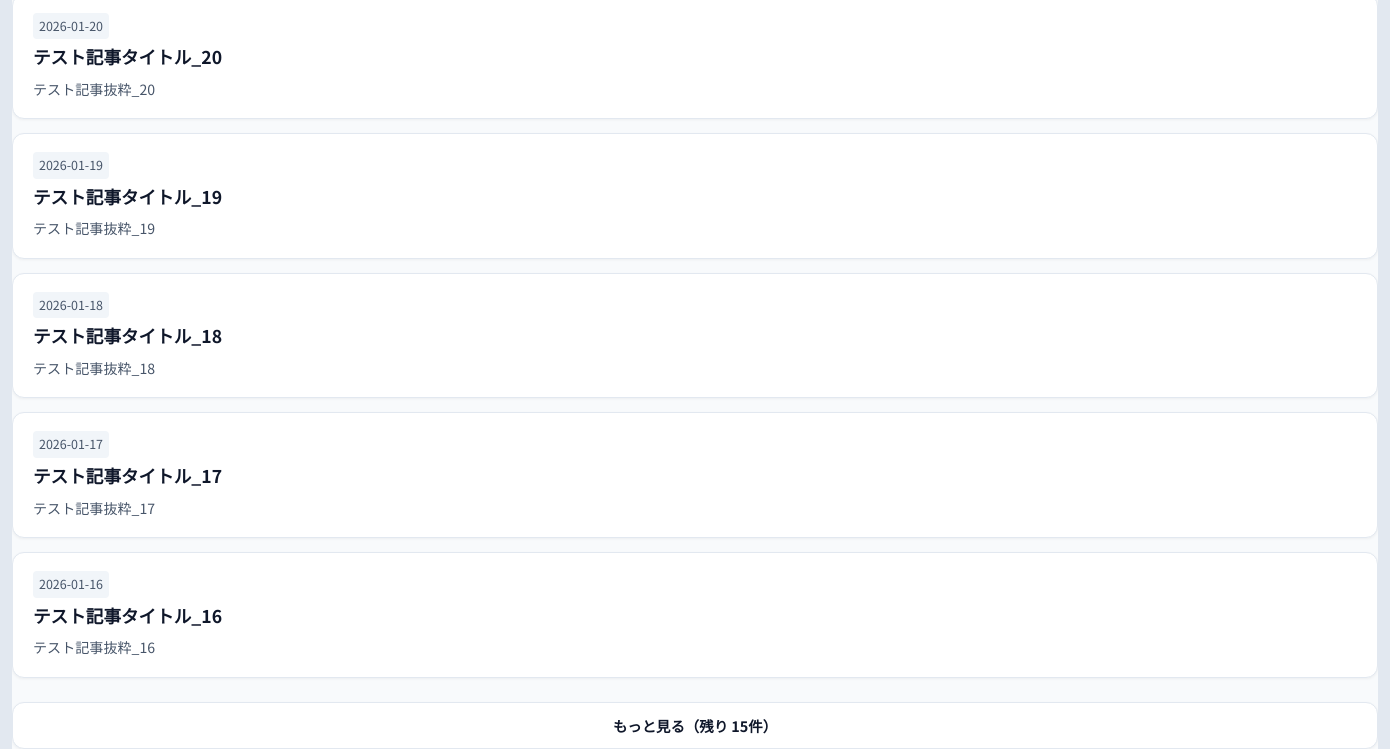
Test: 02_ホーム右カラム・最新記事・記事一覧・ページネーションテスト › 02_記事一覧_03 「もっと見る（残り N件）」ボタン押下で10件ずつ追加表示され、全件表示後にボタンが消えること
(page scrolled)
Click the button "もっと見る（残り 15件）": (695, 725) [12,702,1378,748]
(page scrolled)
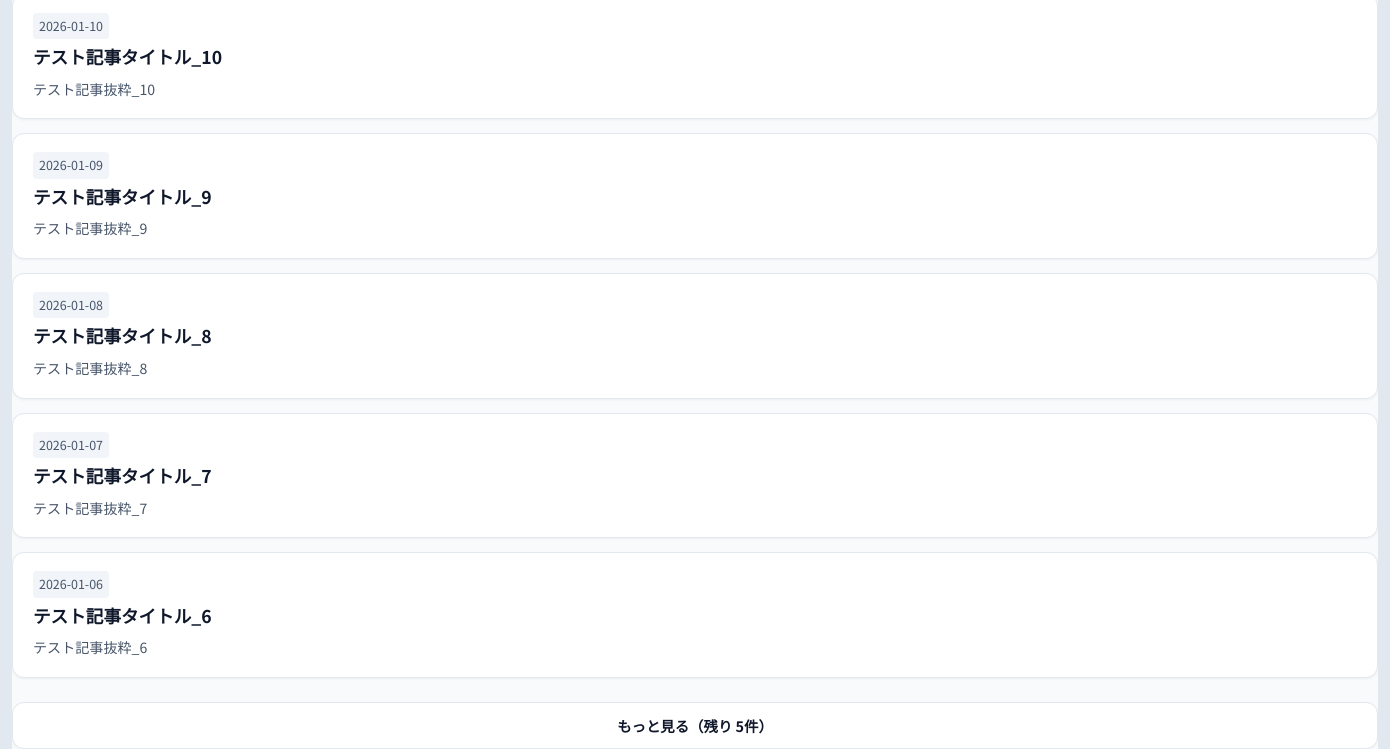
Expected: the button "もっと見る（残り 5件）" is shown
Click the button "もっと見る（残り 5件）": (695, 725) [12,702,1378,748]
(page scrolled)
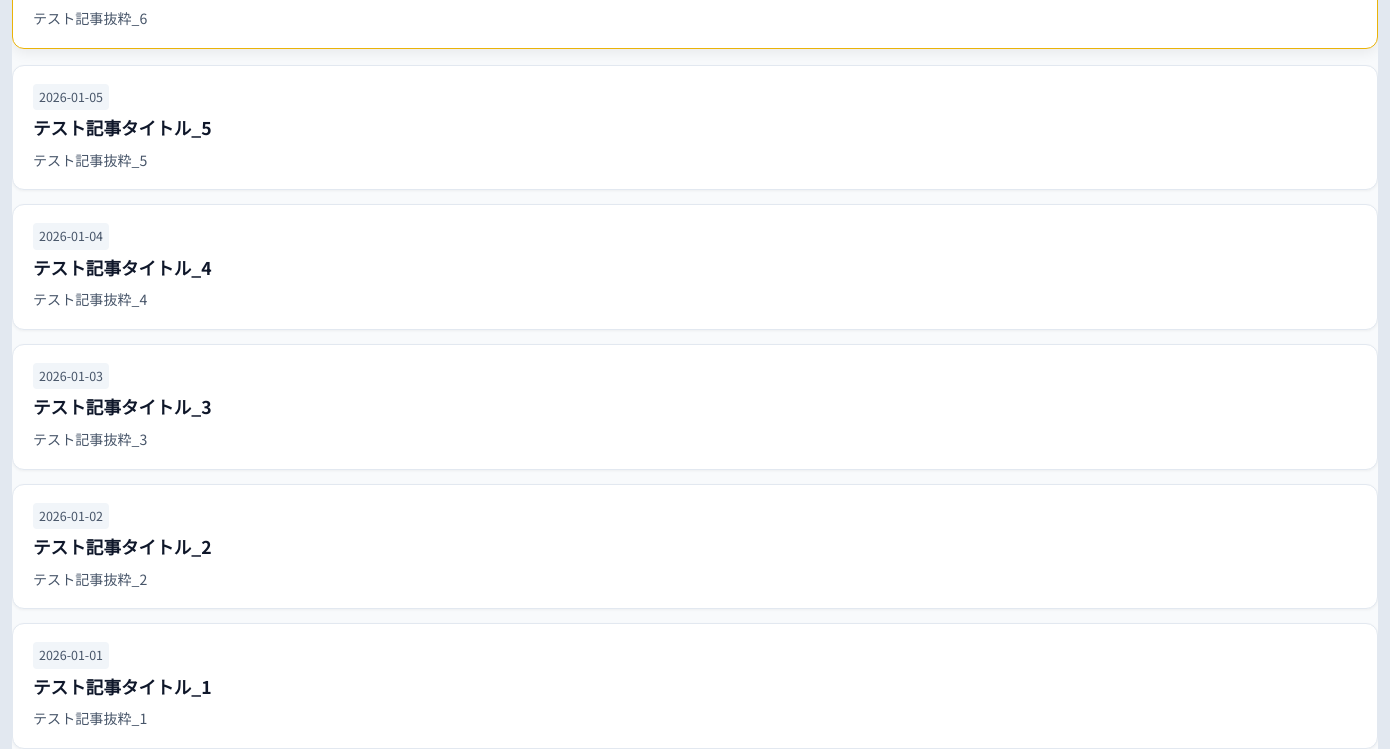
Expected: the heading "テスト記事タイトル_1" is shown, [33,674,212,699]
Expected: the button "もっと見る" is gone
